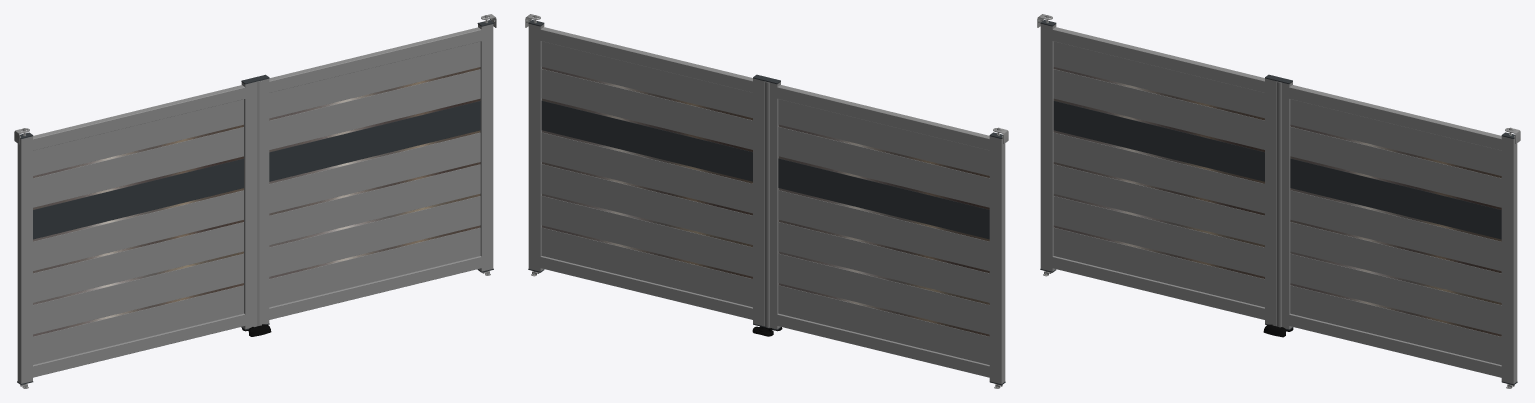
3 views of the same model, side by side, from view 1: azimuth 30°, elevation 25°; view 2: azimuth 150°, elevation 25°; view 3: azimuth 330°, elevation 25° (orthographic).
Parts seen in each view (by area): view 1: Shape107412794, Shape107412790, Shape107412792, Shape107412796, Shape107412798, Shape170, Shape184, Shape176, Shape180, Shape188, Shape107412789, Shape1 (+23 smaller); view 2: Shape188, Shape107412792, Shape107412794, Shape107412796, Shape170, Shape176, Shape180, Shape184, Shape107412798, Shape107412790, Shape107412789, Shape1 (+23 smaller); view 3: Shape107412790, Shape107412794, Shape107412796, Shape107412798, Shape176, Shape180, Shape107412792, Shape170, Shape188, Shape184, Shape107412789, Shape1 (+23 smaller).
Boxes of the visible parts, x1,y1,x2,y2 form: Shape107412794: [269, 132, 480, 213]; Shape107412790: [269, 196, 480, 276]; Shape107412792: [269, 164, 480, 244]; Shape107412796: [269, 101, 480, 181]; Shape107412798: [269, 69, 480, 149]; Shape170: [33, 253, 243, 334]; Shape184: [33, 158, 243, 239]; Shape176: [33, 222, 243, 302]; Shape180: [33, 190, 243, 270]; Shape188: [33, 127, 243, 207]; Shape107412789: [269, 227, 480, 307]; Shape1: [33, 285, 243, 364]; Shape188: [778, 126, 989, 207]; Shape107412792: [541, 164, 752, 244]; Shape107412794: [541, 132, 752, 213]; Shape107412796: [541, 100, 752, 181]; Shape170: [778, 253, 989, 334]; Shape176: [778, 222, 989, 302]; Shape180: [778, 190, 989, 270]; Shape184: [778, 158, 989, 239]; Shape107412798: [541, 69, 752, 149]; Shape107412790: [541, 196, 752, 276]; Shape107412789: [541, 227, 752, 307]; Shape1: [778, 285, 989, 364]; Shape107412790: [1290, 253, 1501, 334]; Shape107412794: [1290, 190, 1501, 271]; Shape107412796: [1290, 158, 1501, 239]; Shape107412798: [1290, 126, 1501, 207]; Shape176: [1053, 164, 1264, 245]; Shape180: [1053, 132, 1264, 213]; Shape107412792: [1290, 222, 1501, 302]; Shape170: [1053, 196, 1264, 276]; Shape188: [1053, 69, 1264, 149]; Shape184: [1053, 101, 1264, 181]; Shape107412789: [1290, 285, 1501, 364]; Shape1: [1053, 227, 1264, 307].
Size of the model in its own units: 3260 by 1696 by 146.
9 materials, 4 textured.
